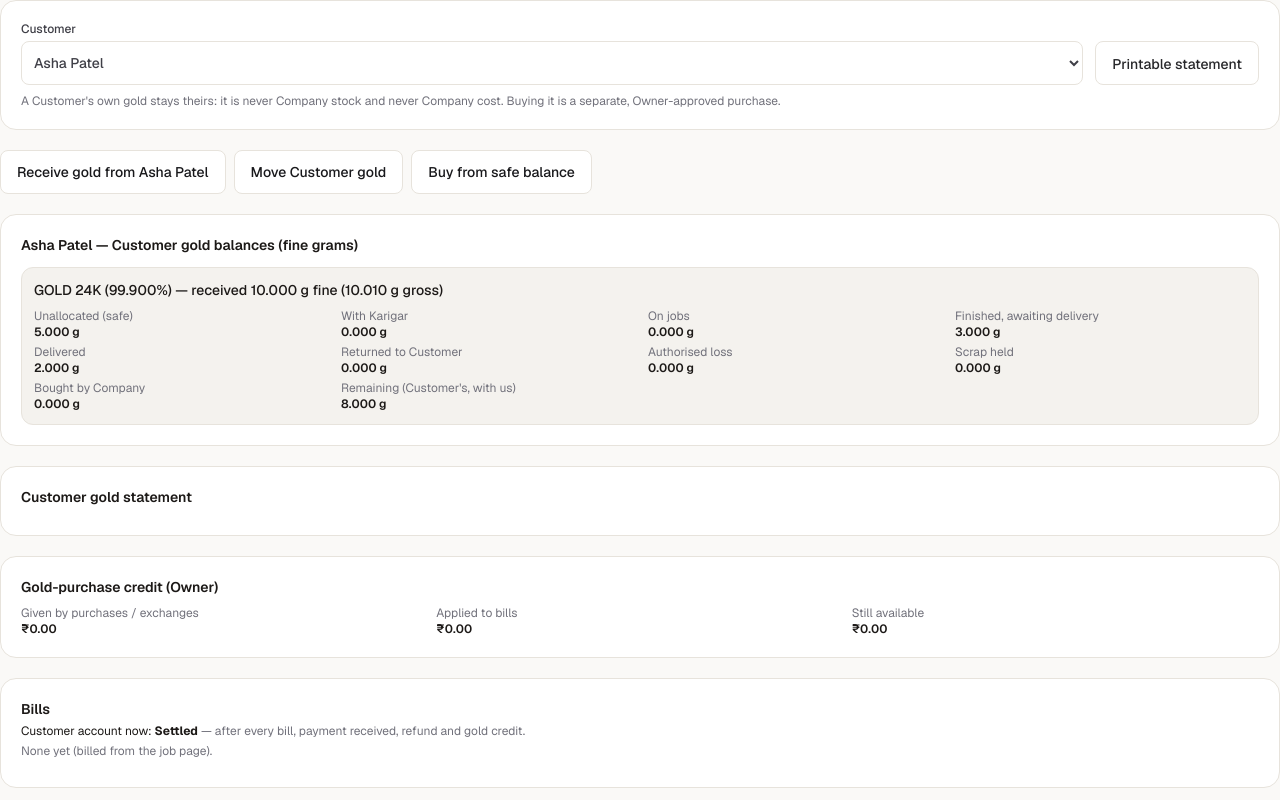
Test: Customer Gold tab › intake needs an explicit choice between Customer-owned gold and a purchase/exchange (Owner)
This screenshot has width=1280, height=800.
What coordinates should you click on to do the following:
click the button "Receive gold from Asha Patel"
I would click on:
 (113, 172)
Its box is [0, 150, 226, 194].
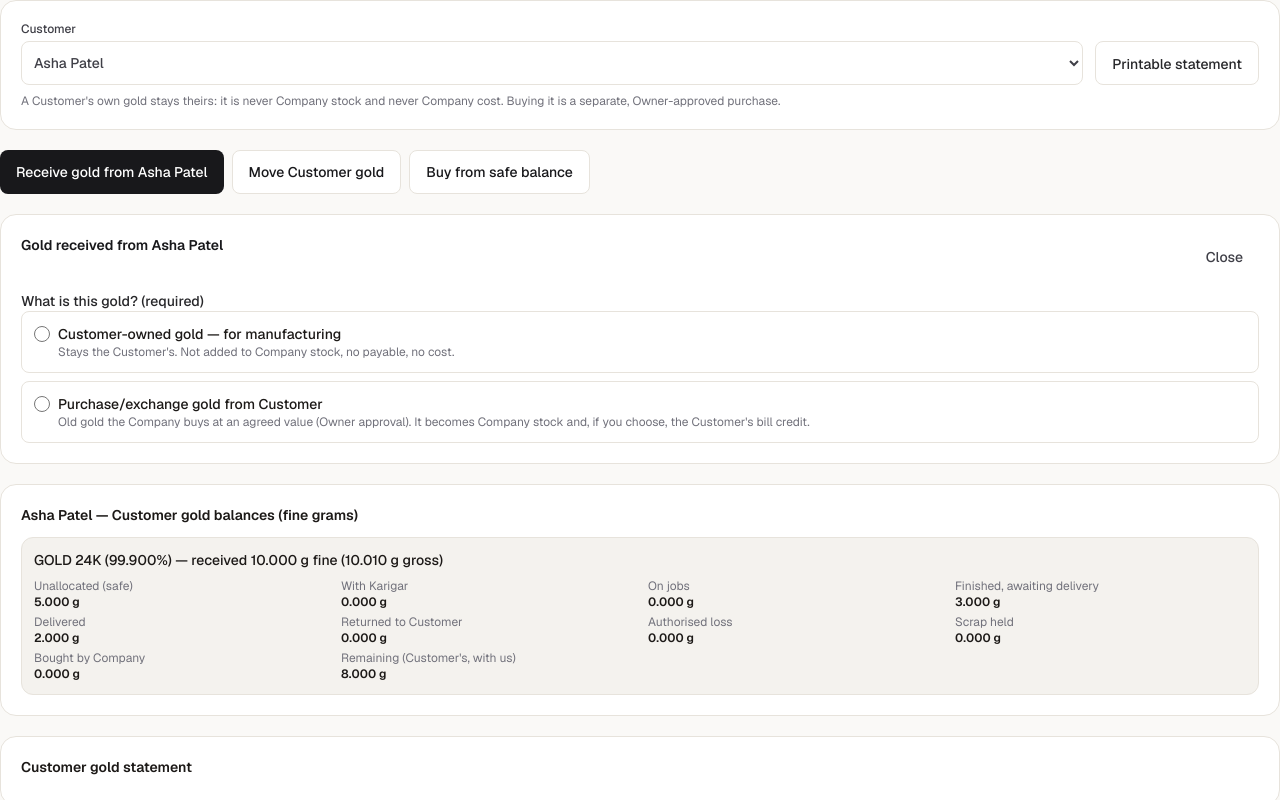
What coordinates should you click on to do the following:
click the radio button labelled "Customer-owned gold — for manufacturing"
I would click on:
 (42, 334)
Its box is [34, 326, 50, 342].
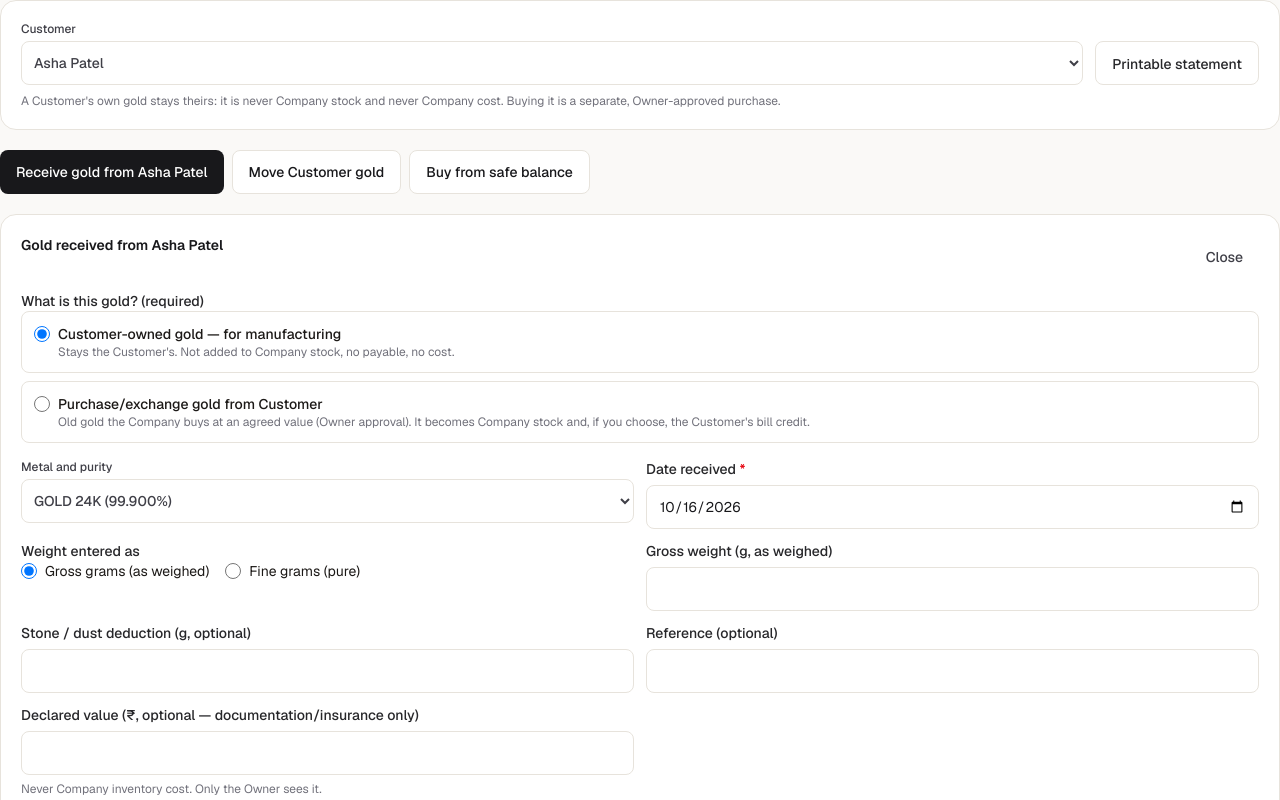
Result: the text "Declared value (₹, optional — documentation/insurance only)" is shown at [21, 706, 419, 724]
What coordinates should you click on to do the following:
click the radio button labelled "Purchase/exchange gold from Customer"
I would click on:
 (42, 404)
Its box is [34, 396, 50, 412].
(page scrolled)
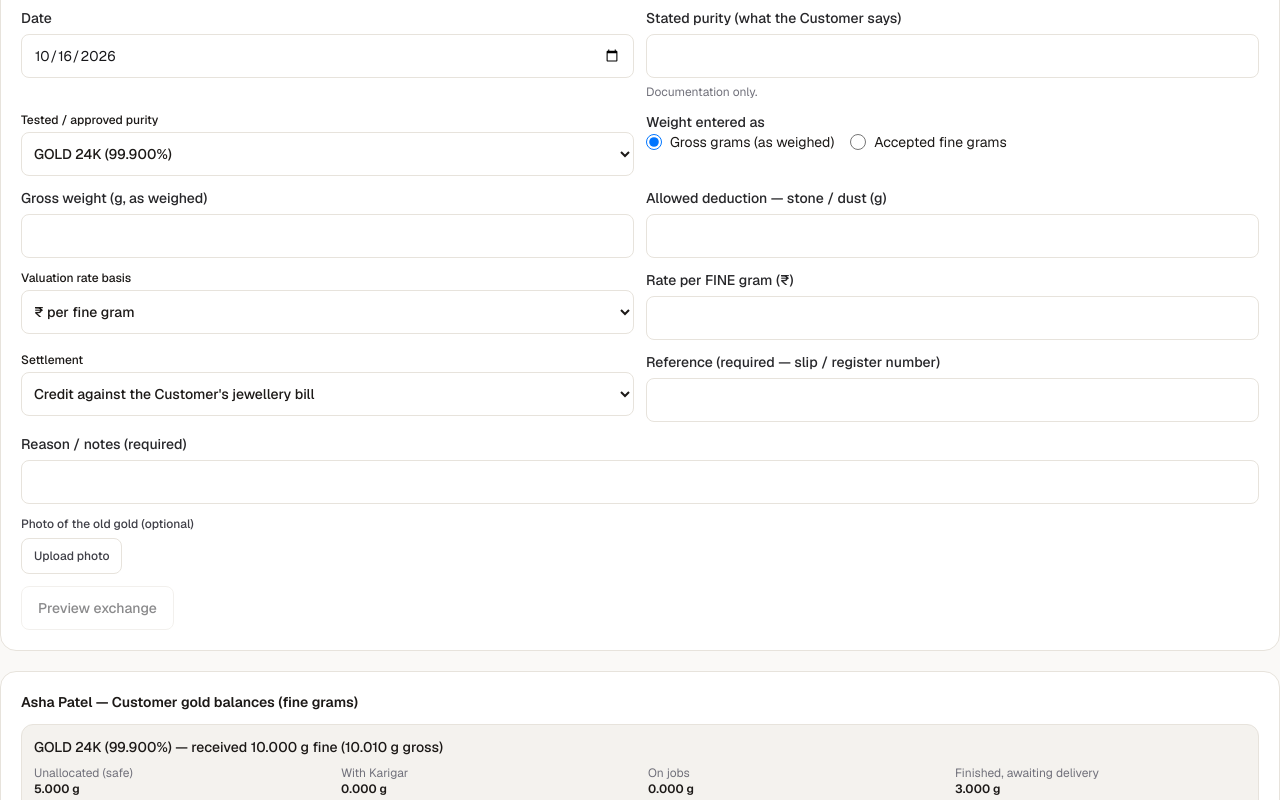
Result: the number field labelled "Allowed deduction — stone / dust (g)" is shown at [646, 214, 1259, 258]
Result: the field labelled "Stated purity (what the Customer says)" is shown at [646, 34, 1259, 78]
Result: the dropdown named "Tested purity" is shown at [21, 132, 634, 176]
